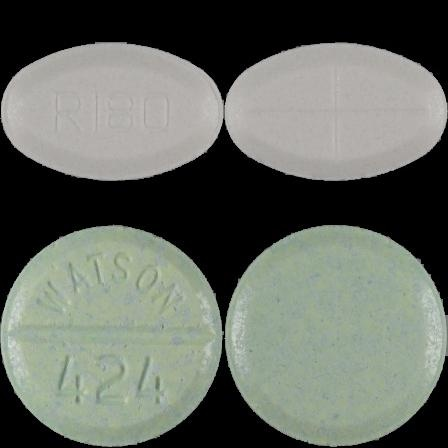50436-6756: (0, 0, 224, 224)
